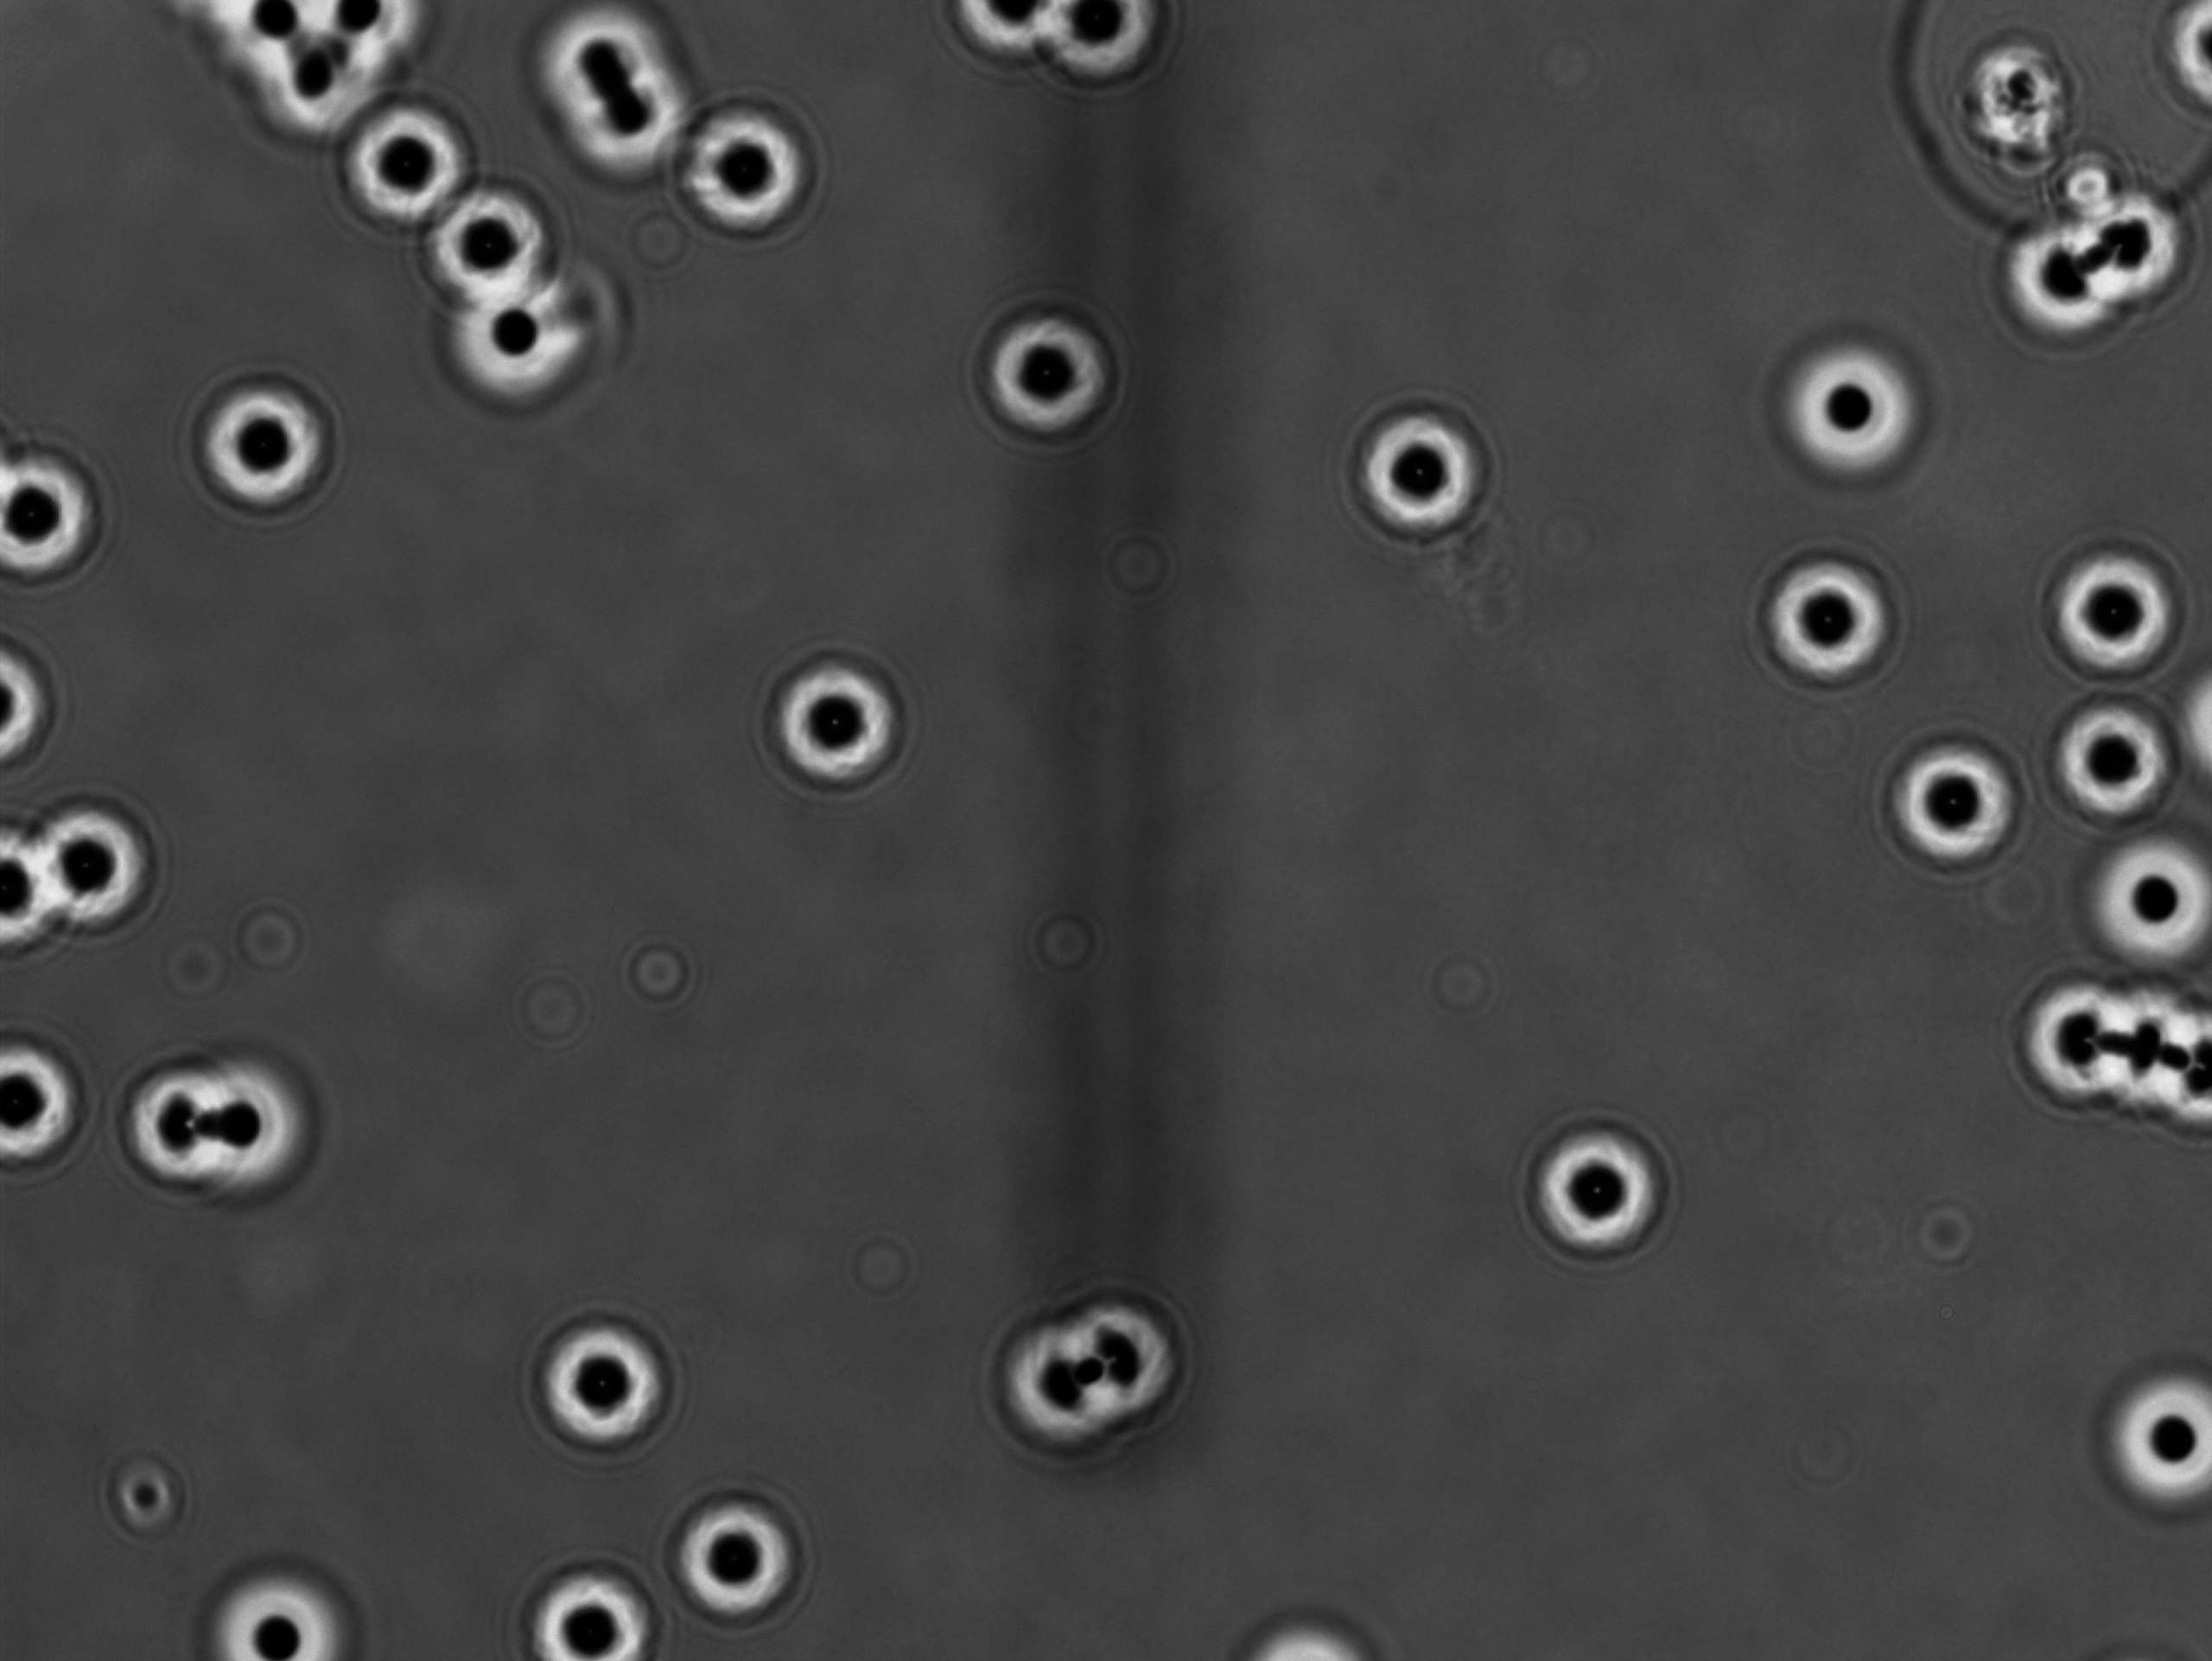depth:-20: (1743, 539, 1929, 712), (1511, 1099, 1703, 1267), (173, 345, 351, 520), (740, 626, 909, 808), (518, 1296, 701, 1462), (961, 291, 1127, 461), (2025, 525, 2205, 680), (1877, 715, 2043, 881), (1333, 382, 1488, 550), (673, 1476, 836, 1631), (973, 1309, 1123, 1467), (21, 787, 167, 947), (2032, 680, 2186, 830), (312, 96, 468, 237), (415, 190, 574, 309), (675, 96, 811, 232), (513, 1548, 675, 1661)
